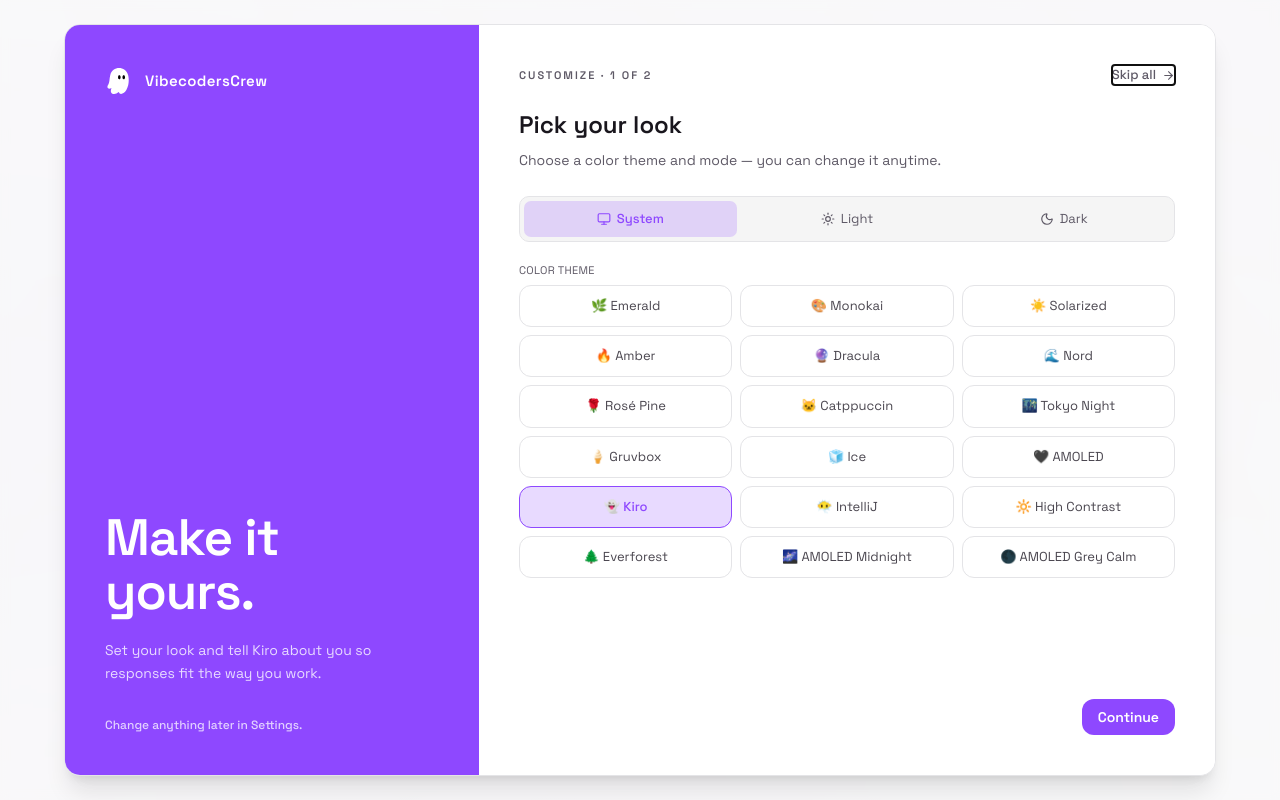
OnboardingFlow — About You step › re-seats focus inside the dialog when the save freeze lifts
Click the button "Continue": (1128, 717) [1082, 699, 1175, 735]
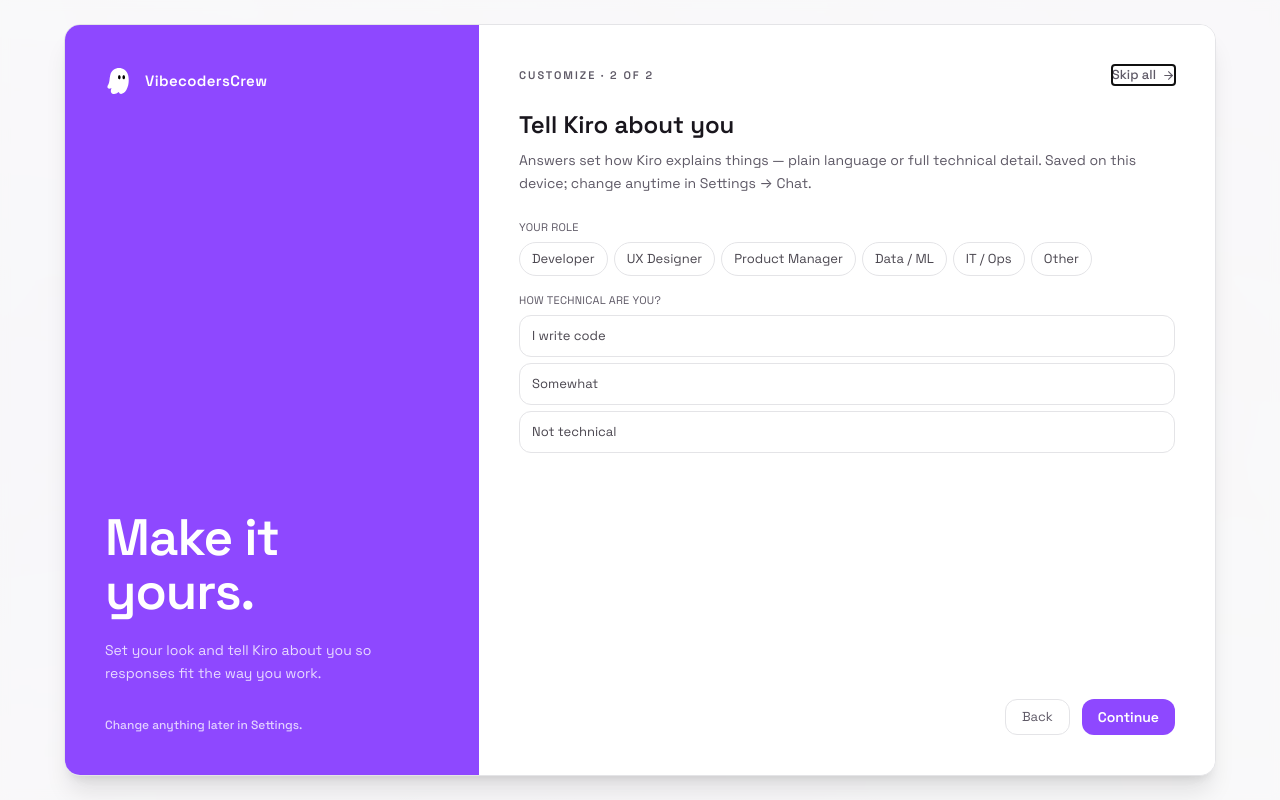
Expected: the heading "Tell Kiro about you" is shown, [519, 109, 734, 140]
Click the button "Other": (1061, 259) [1031, 242, 1092, 276]
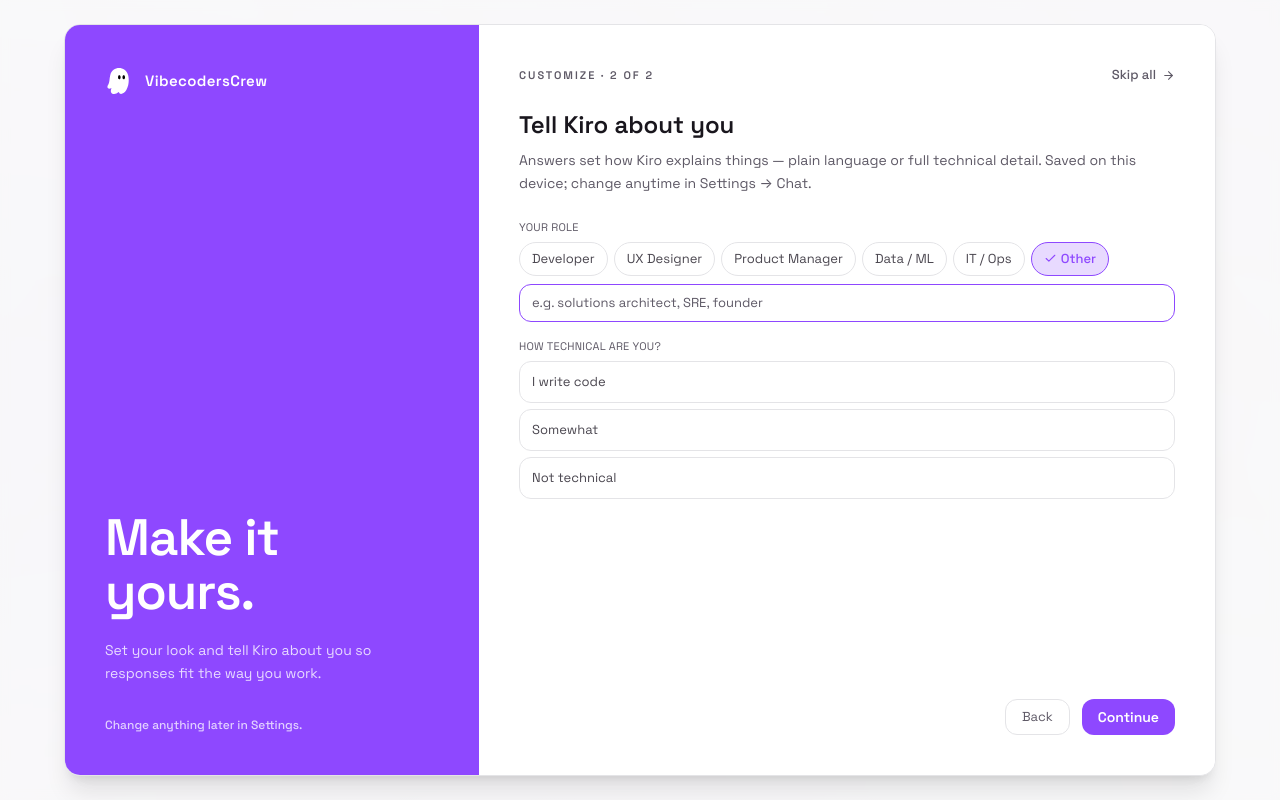
In the field named "Describe your role": (847, 303) [519, 284, 1175, 322], type "founder"
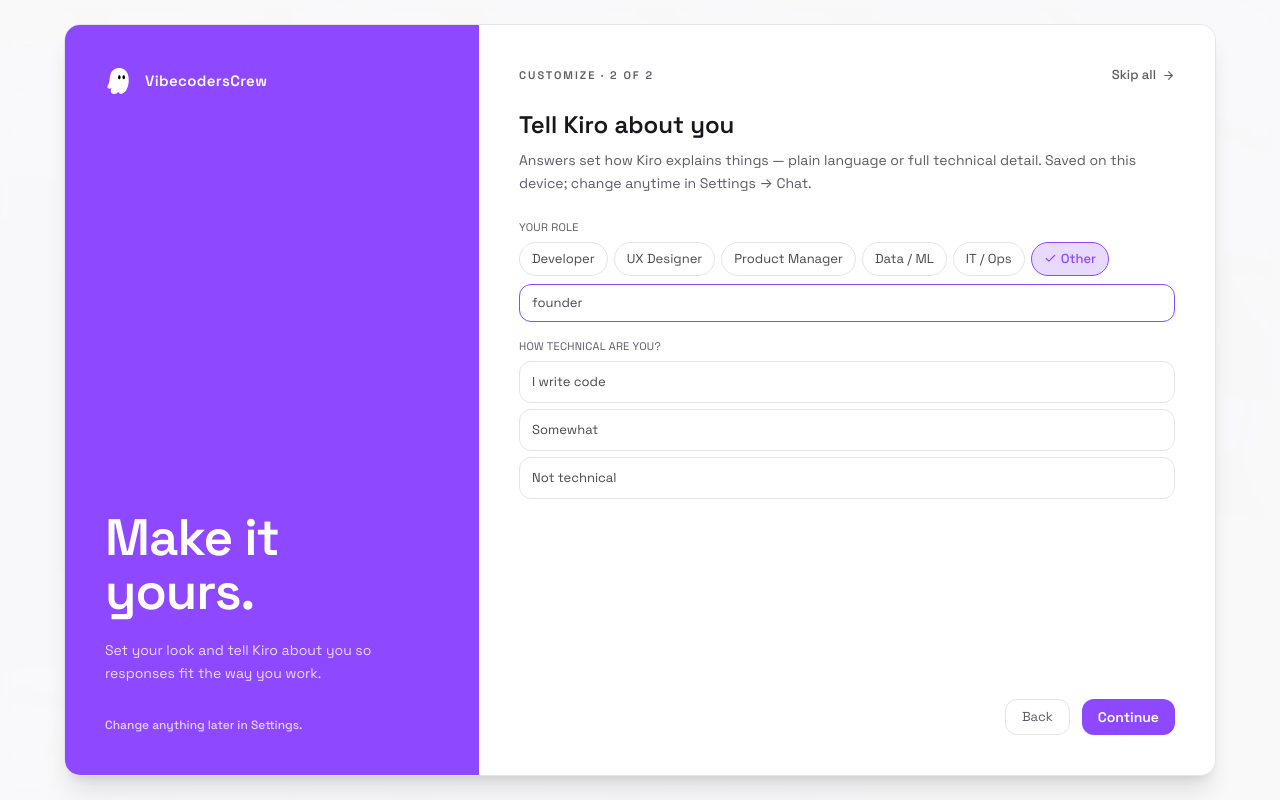
Click the button "Continue": (1128, 717) [1082, 699, 1175, 735]
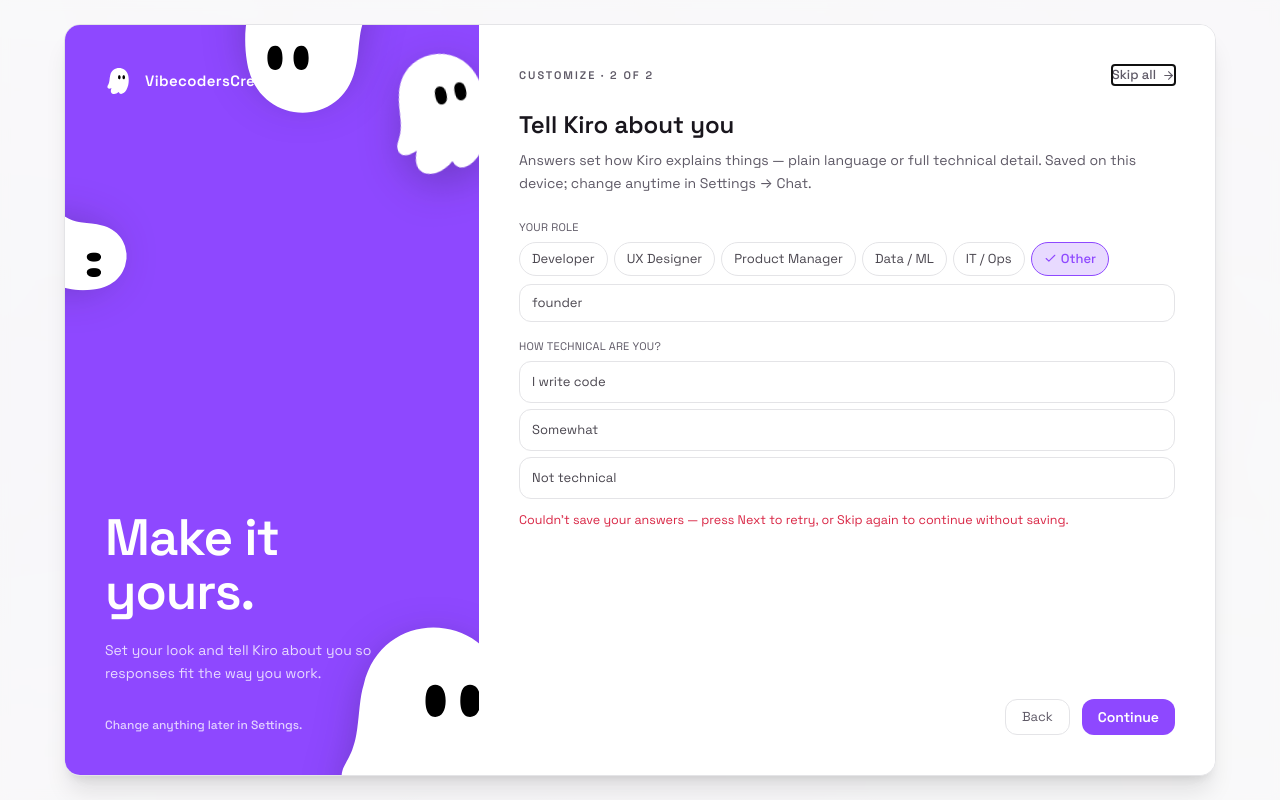
Expected: the message is shown, [519, 512, 1069, 528]
